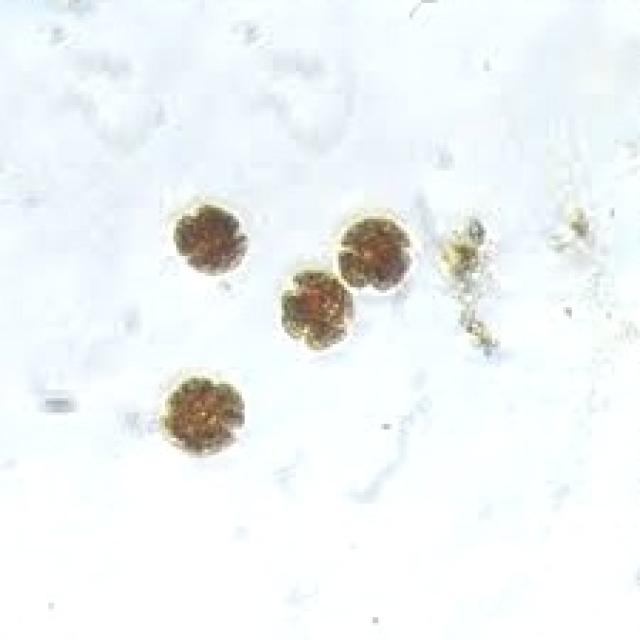Karenia: (153, 372, 264, 460), (166, 194, 256, 289), (336, 203, 421, 300), (274, 270, 355, 355)
